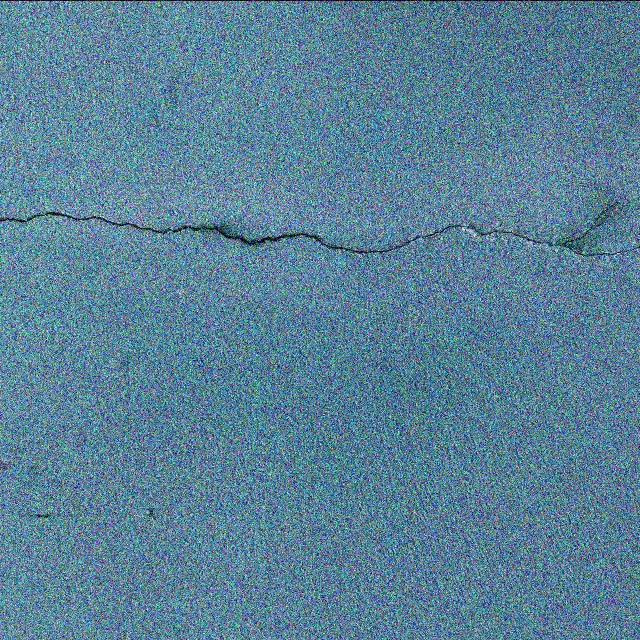SurfaceCrack: (0, 165, 639, 301)
